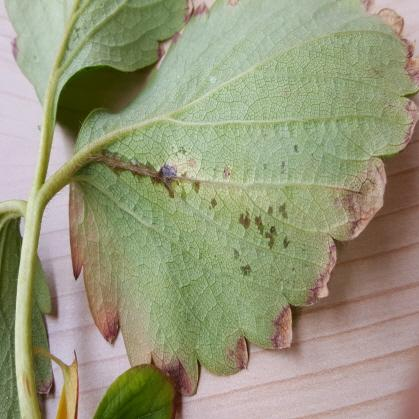Angular Leafspot: (83, 135, 312, 286)
